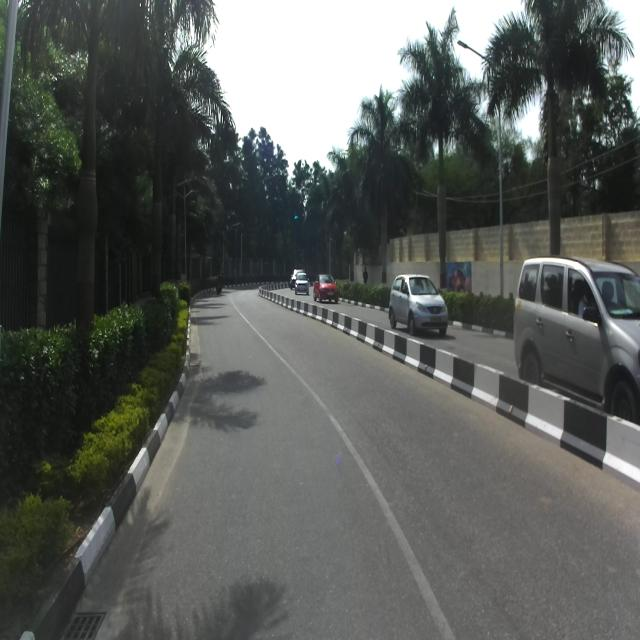car ahead at: (509, 254, 640, 415)
tree ahead at: (67, 5, 108, 427)
